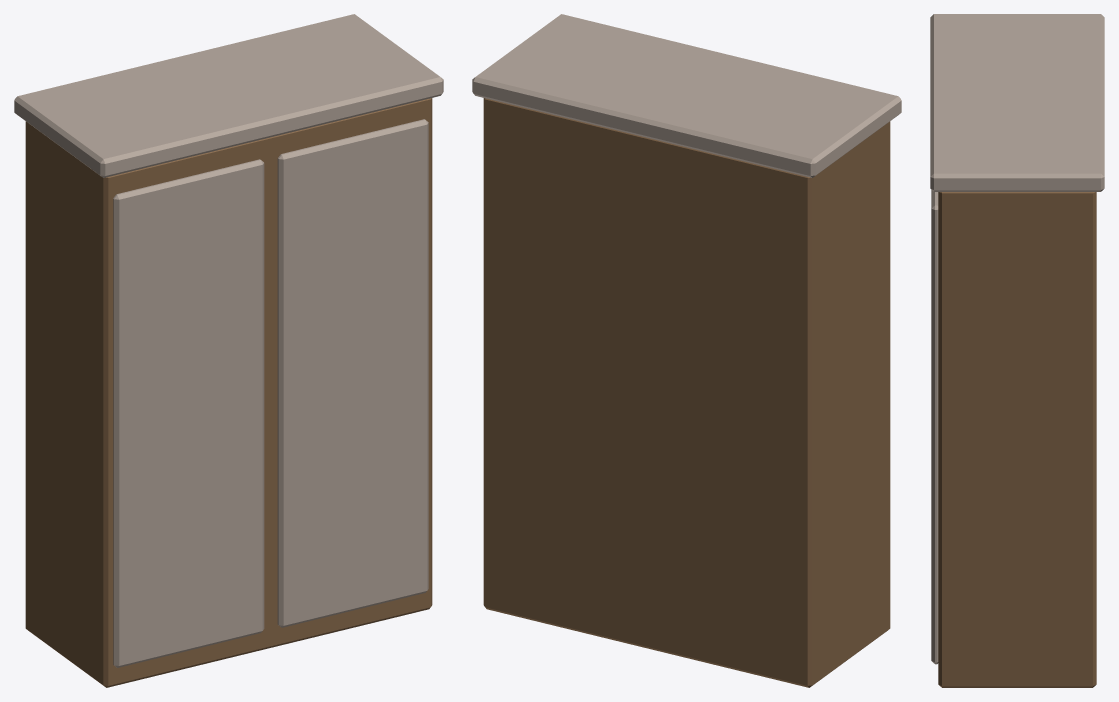
The model's file is wardrobe_storage.lod1.glb.
The picture shows the model from 3 angles, left to right: view 1: azimuth 30°, elevation 25°; view 2: azimuth 150°, elevation 25°; view 3: azimuth 270°, elevation 25°; orthographic projection. The views are drawn at different scales.
Size of the model in its own units: 1.9 by 2.82 by 0.86.
